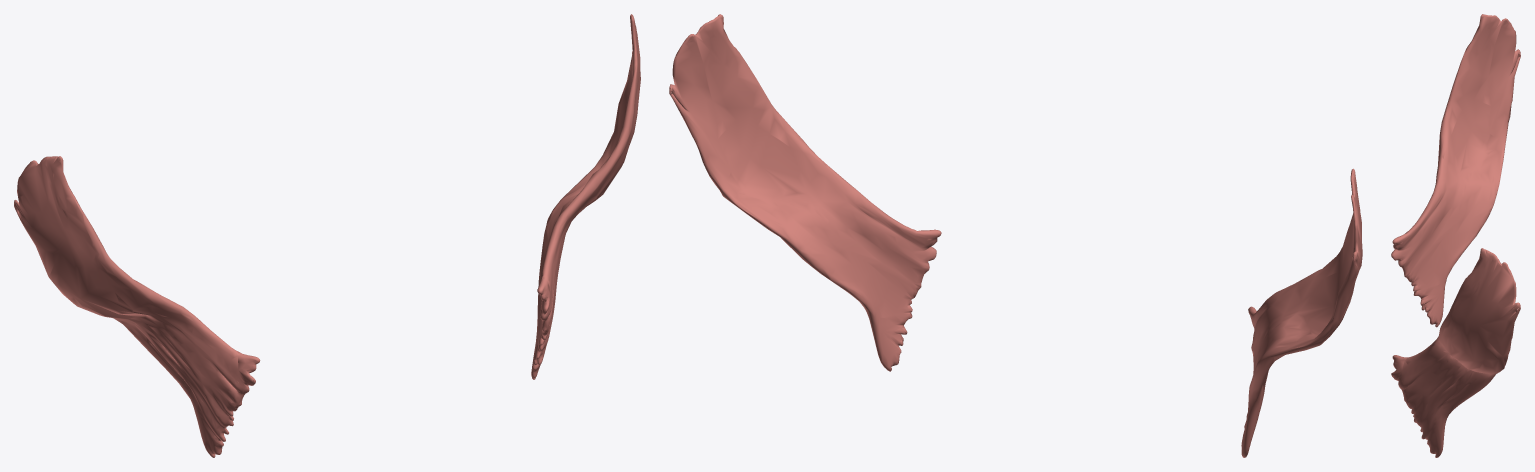
The model's file is zygomaticus_lod1.glb.
3 renders of one model, left to right at view 1: azimuth 30°, elevation 25°; view 2: azimuth 150°, elevation 25°; view 3: azimuth 270°, elevation 25°, orthographic. The views are drawn at different scales.
Visible parts, largest first — view 1: zygomaticus_R_lod1, zygomaticus_L_lod1; view 2: zygomaticus_L_lod1, zygomaticus_R_lod1; view 3: zygomaticus_R_lod1, zygomaticus_L_lod1.
Boxes of the visible parts, x1=… form: zygomaticus_R_lod1: x1=14, y1=156, x2=260, y2=457; zygomaticus_L_lod1: x1=531, y1=14, x2=640, y2=379; zygomaticus_L_lod1: x1=669, y1=14, x2=941, y2=371; zygomaticus_R_lod1: x1=1241, y1=168, x2=1362, y2=457; zygomaticus_R_lod1: x1=1391, y1=14, x2=1520, y2=327; zygomaticus_L_lod1: x1=1391, y1=248, x2=1520, y2=457.
Bounding box in the file's own units: 0.1163 × 0.056 × 0.0252.
